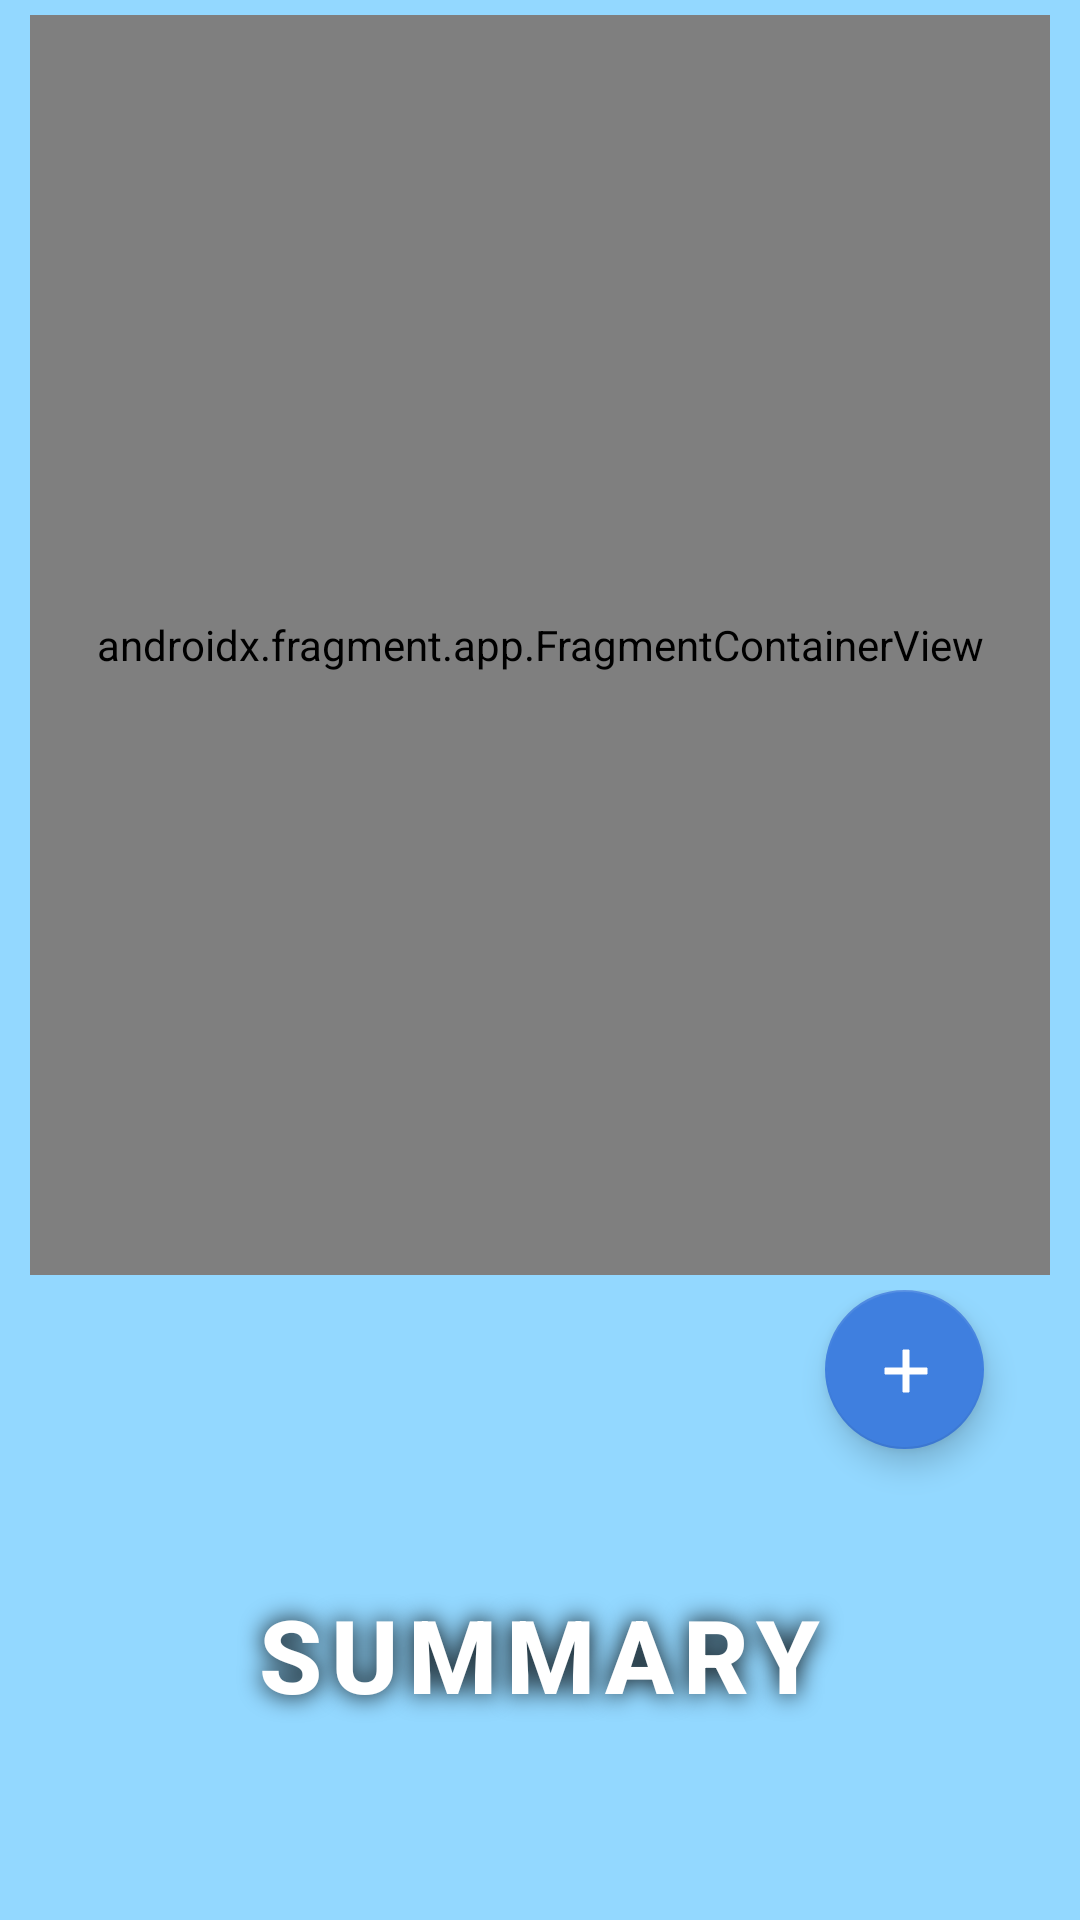

Point at icon controls on the screen. Image size 1080px×1920px, points as point (x, y).
Add meal button: point (904, 1369)
